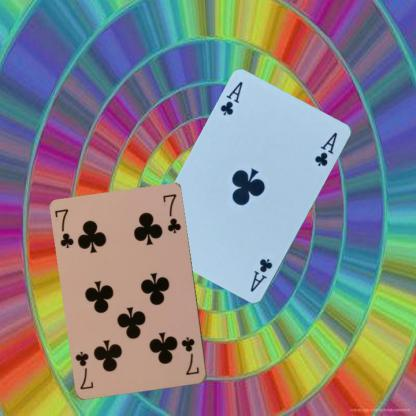7c: (52, 206, 75, 250), (179, 334, 201, 376)
Ac: (218, 79, 245, 117), (248, 256, 274, 293)
